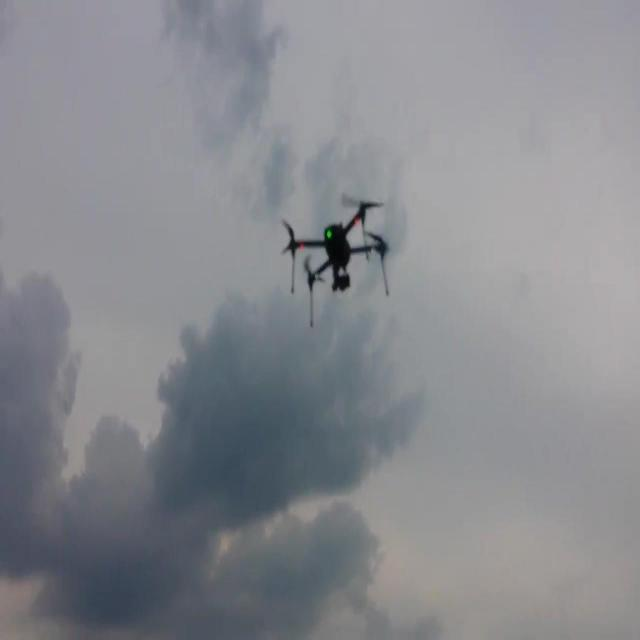UAV: (280, 191, 390, 328)
